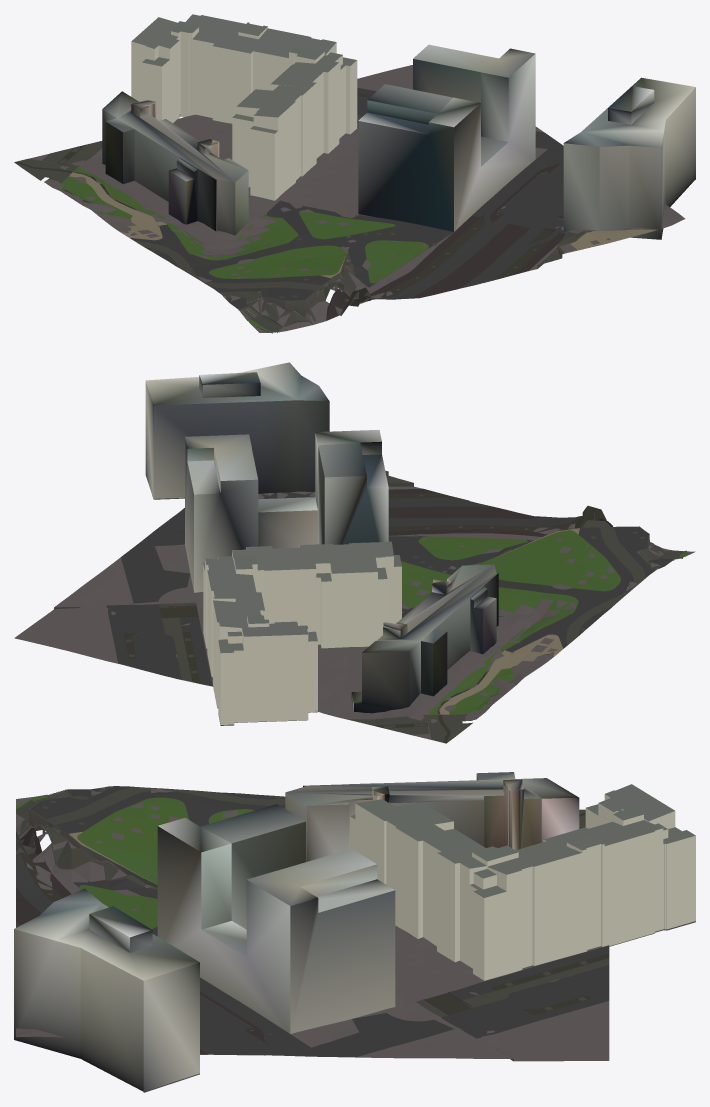
3 views of the same model, one above another, from view 1: azimuth 30°, elevation 25°; view 2: azimuth 150°, elevation 25°; view 3: azimuth 270°, elevation 25° (orthographic). The views are drawn at different scales.
Visible parts, largest first — view 1: c_m16_p08; view 2: c_m16_p08; view 3: c_m16_p08.
Boxes of the visible parts, bbox=[...] form: c_m16_p08: bbox=[14, 14, 695, 333]; c_m16_p08: bbox=[14, 362, 695, 743]; c_m16_p08: bbox=[14, 772, 695, 1092].
Size of the model in its own units: 147 by 32.99 by 147.
